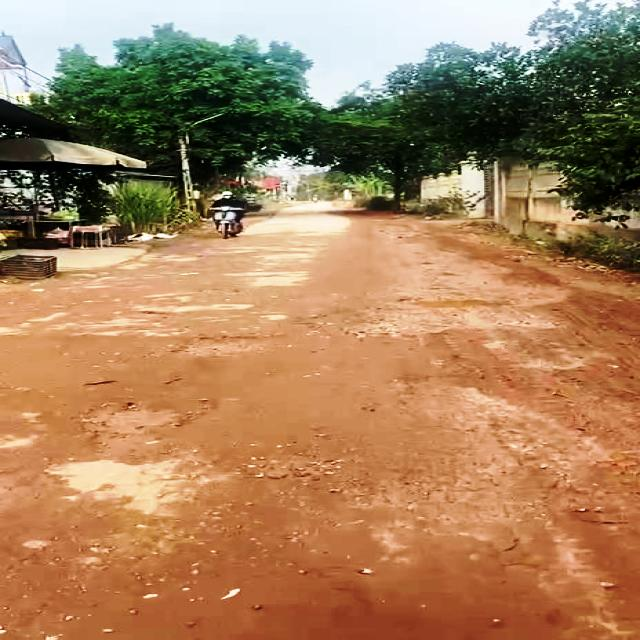pothole: (80, 399, 190, 442), (398, 292, 522, 311), (178, 334, 272, 359)
